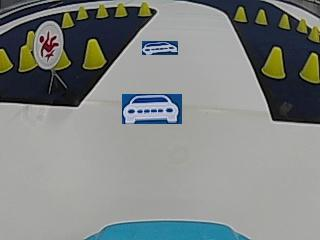cone: (81, 37, 105, 71), (262, 45, 285, 80), (299, 50, 319, 85), (18, 47, 35, 72), (0, 48, 12, 74), (307, 24, 319, 43), (233, 6, 247, 22), (61, 12, 74, 28), (255, 8, 267, 25), (138, 1, 151, 16), (278, 13, 290, 29), (115, 2, 127, 17), (96, 3, 108, 18), (296, 17, 307, 33), (77, 5, 88, 20)
tumble: (36, 24, 63, 66)
